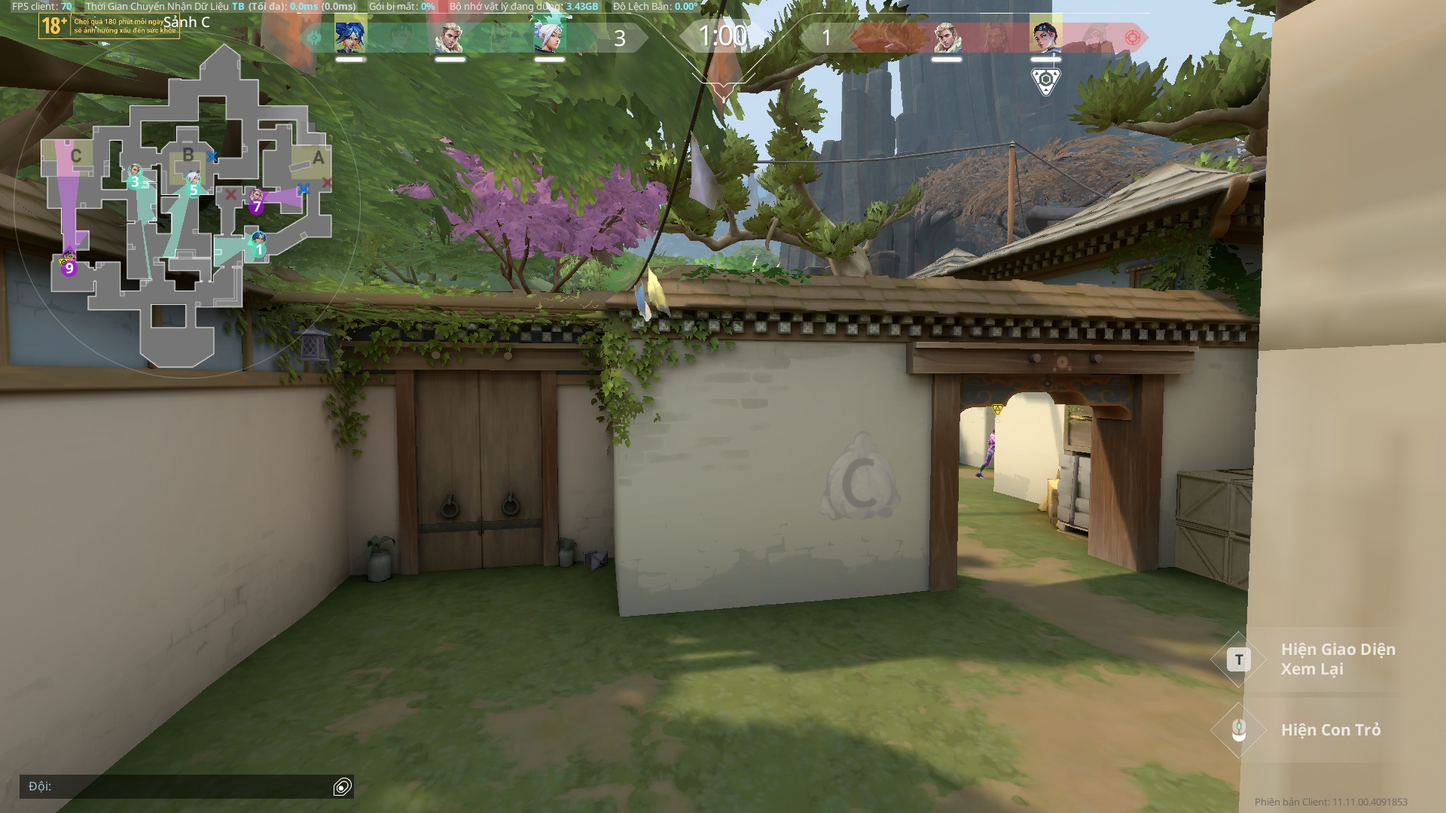body: (988, 434, 995, 452)
head: (991, 428, 996, 433)
